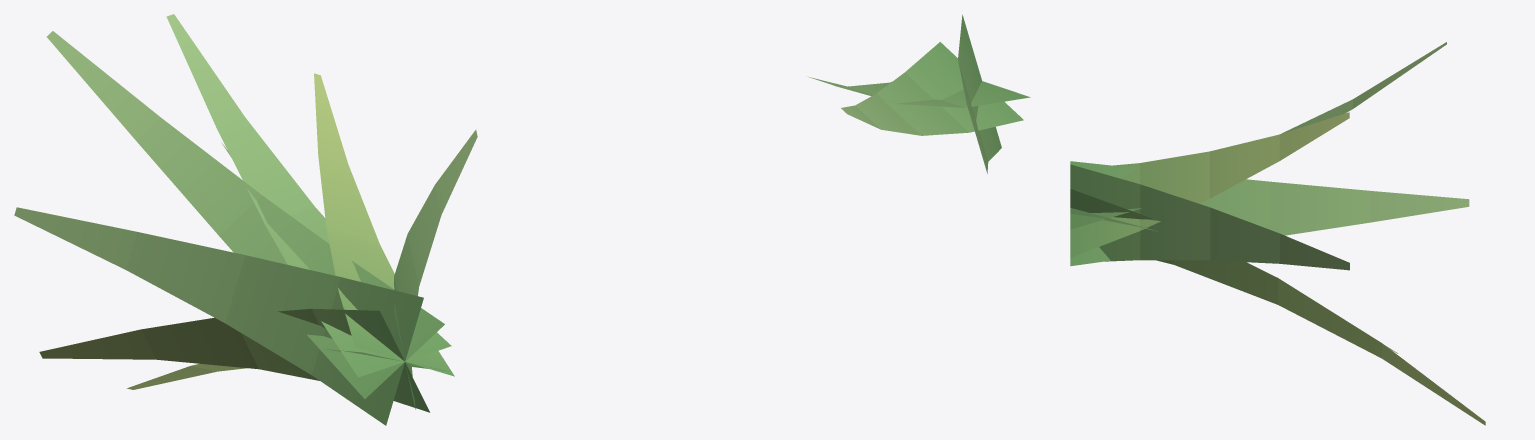
File: rumput.glb
3 views of the same model, side by side, from view 1: azimuth 30°, elevation 25°; view 2: azimuth 150°, elevation 25°; view 3: azimuth 270°, elevation 25° (orthographic). The views are drawn at different scales.
Parts seen in each view (by area): view 1: Rumput; view 2: Rumput; view 3: Rumput.
Part boxes in pixels (left/top/right/bottom): Rumput: left=14, top=14, right=477, bottom=425; Rumput: left=809, top=14, right=1030, bottom=173; Rumput: left=1070, top=42, right=1485, bottom=425.
Bounding box in the file's own units: 0.6995 × 0.5249 × 0.7025.
